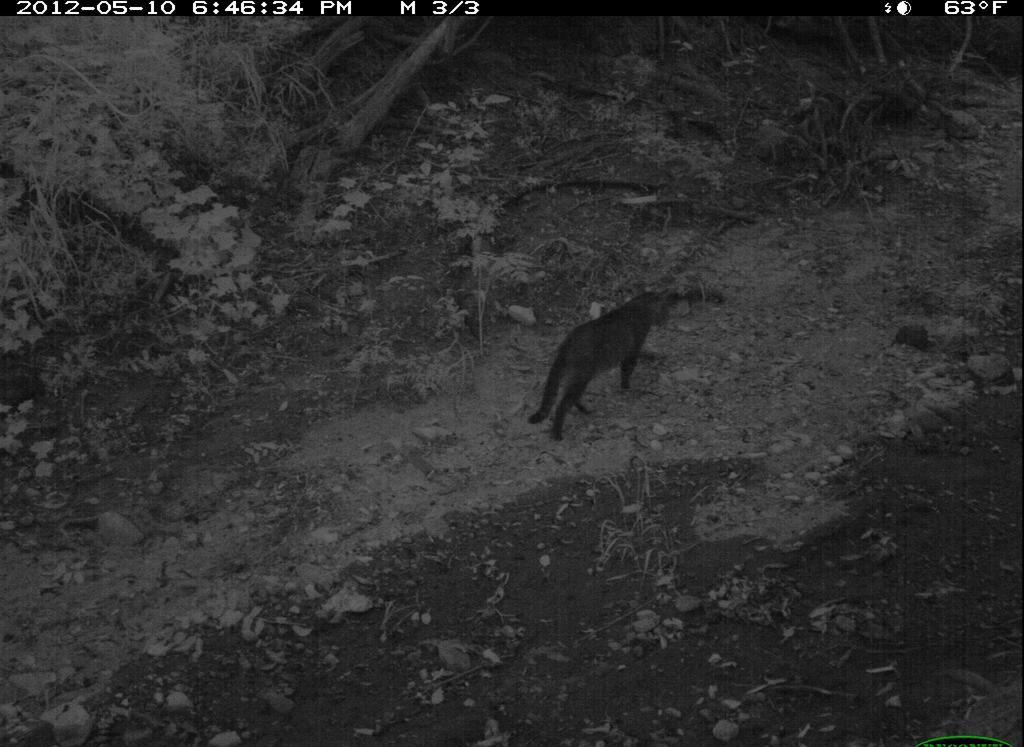cat: (512, 262, 702, 454)
